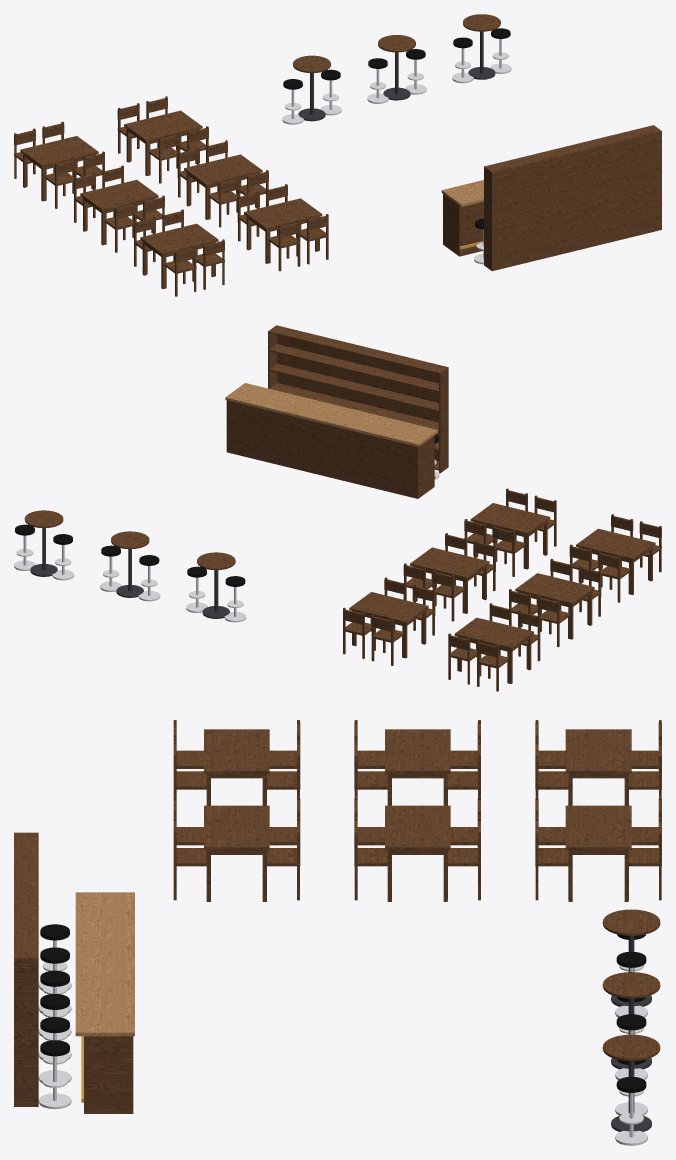
Rendered from i_american_diner.gltf.
3 renders of one model, top to bottom at view 1: azimuth 30°, elevation 25°; view 2: azimuth 150°, elevation 25°; view 3: azimuth 270°, elevation 25°, orthographic. The views are drawn at different scales.
Visible parts, largest first — view 1: I_american_diner; view 2: I_american_diner; view 3: I_american_diner.
Boxes of the visible parts, <box> form: I_american_diner: <box>14,14,661,296</box>; I_american_diner: <box>14,325,661,691</box>; I_american_diner: <box>14,720,661,1145</box>.
Bounding box in the file's own units: 10.38 × 2 × 7.88.
Materials: 6 (2 with a texture image).
